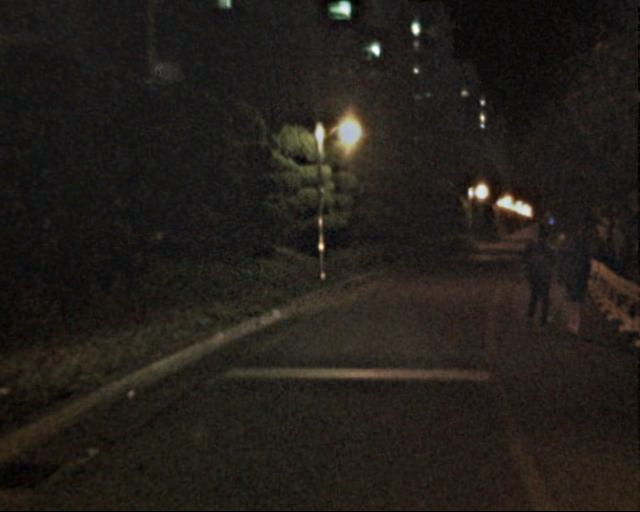person: (512, 230, 558, 341), (547, 233, 590, 339)
